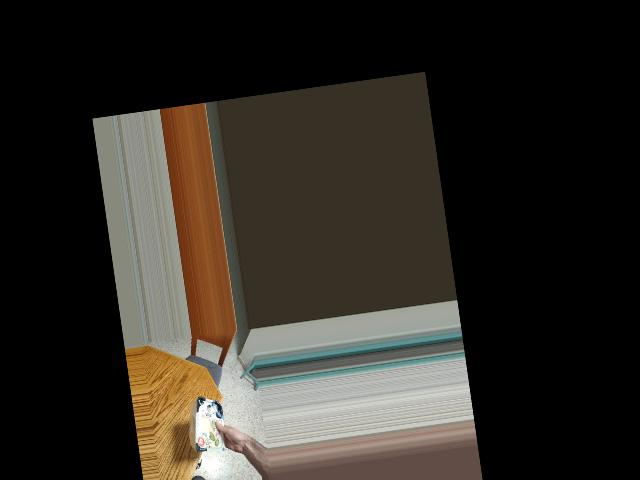cheese: (187, 396, 233, 452)
